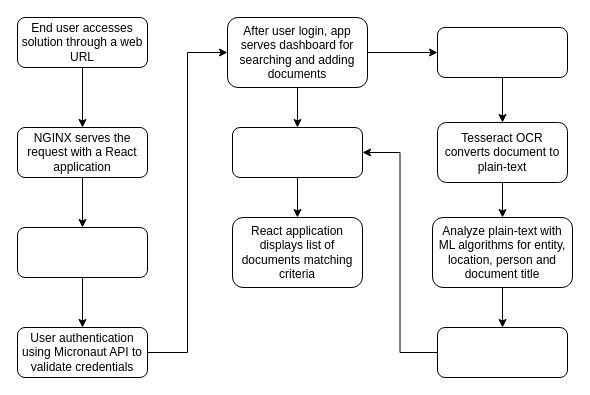
Some shapes in this 590 by 395 pixel diagram are drawn without their labels. The centre of each missing label's shape, as x and y in pixels:
"React serves a login page" belongs at (x=82, y=252).
"Store document data in ElasticSearch" belongs at (x=502, y=352).
"User searches by text or tag(s)" belongs at (x=297, y=152).
"User uploads a new document (image or PDF)" belongs at (x=502, y=52).
